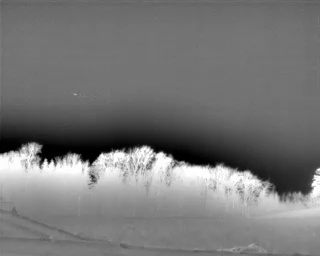BIRD: (72, 91, 79, 98)
